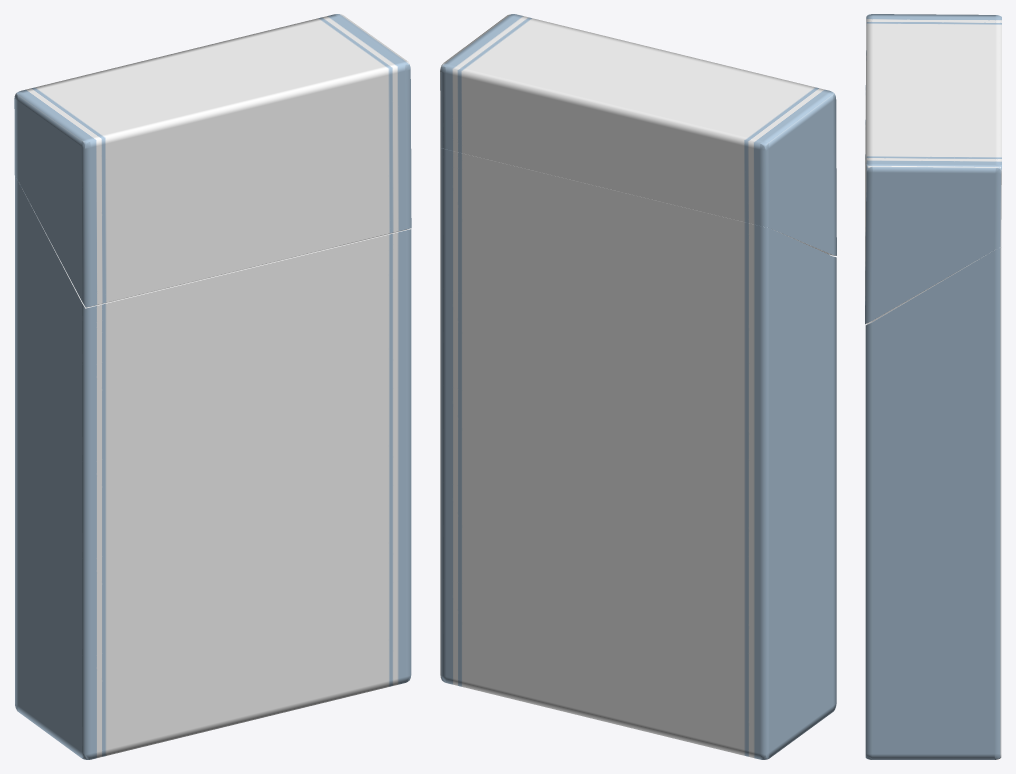
3 renders of one model, left to right at view 1: azimuth 30°, elevation 25°; view 2: azimuth 150°, elevation 25°; view 3: azimuth 270°, elevation 25°, orthographic. The views are drawn at different scales.
Parts seen in each view (by area): view 1: model; view 2: model; view 3: model.
Boxes of the visible parts, bbox=[...] form: model: bbox=[14, 14, 411, 759]; model: bbox=[440, 14, 836, 759]; model: bbox=[865, 14, 1001, 759].
Bounding box in the file's own units: 5.44 × 9.86 × 2.06.
1 material, 1 textured.
